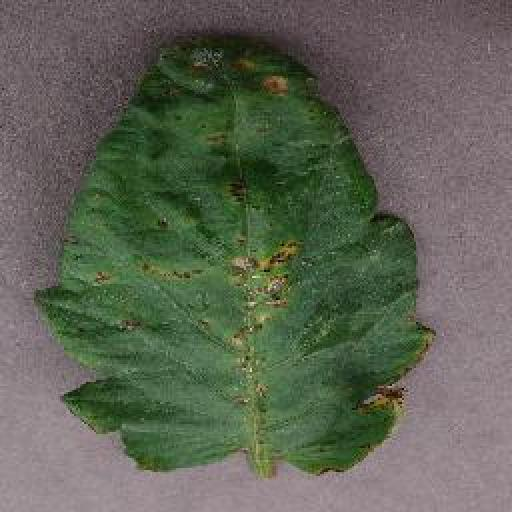Bacterial Spot: (33, 25, 439, 480)
